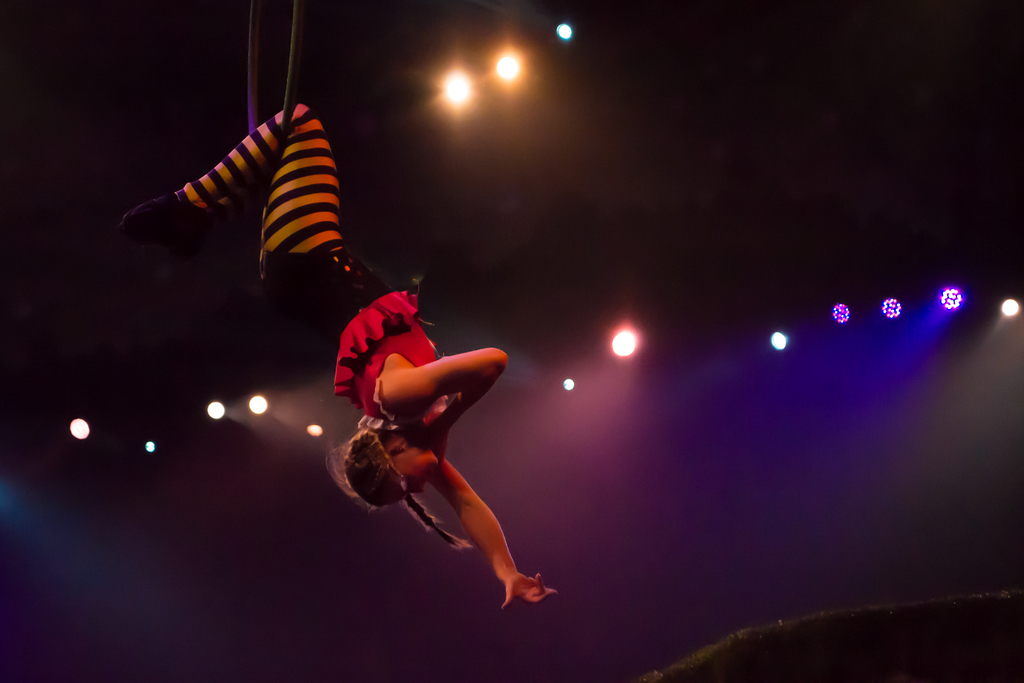Person: (117, 103, 556, 609)
